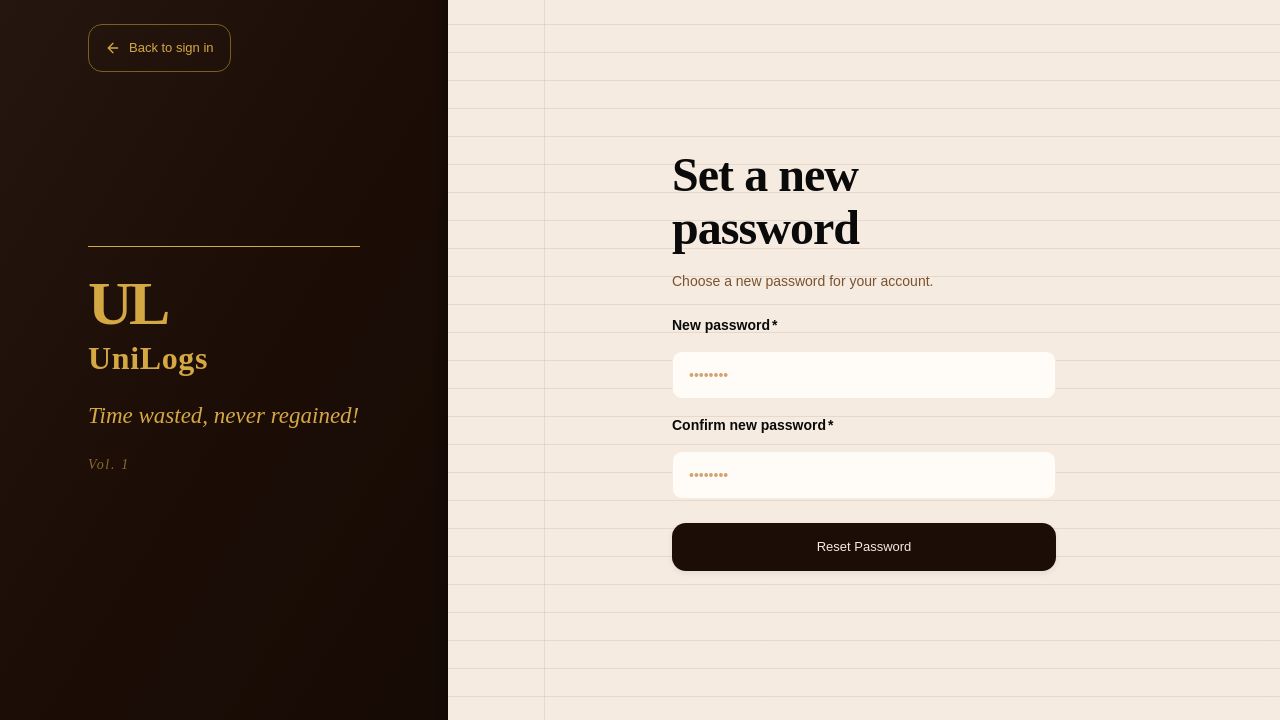
Scenario: ResetPasswordPage with a token › resets the password and shows the confirmation
Type "new-password-1" into the password field labelled "New password*" at (864, 375), box [672,351,1056,399]
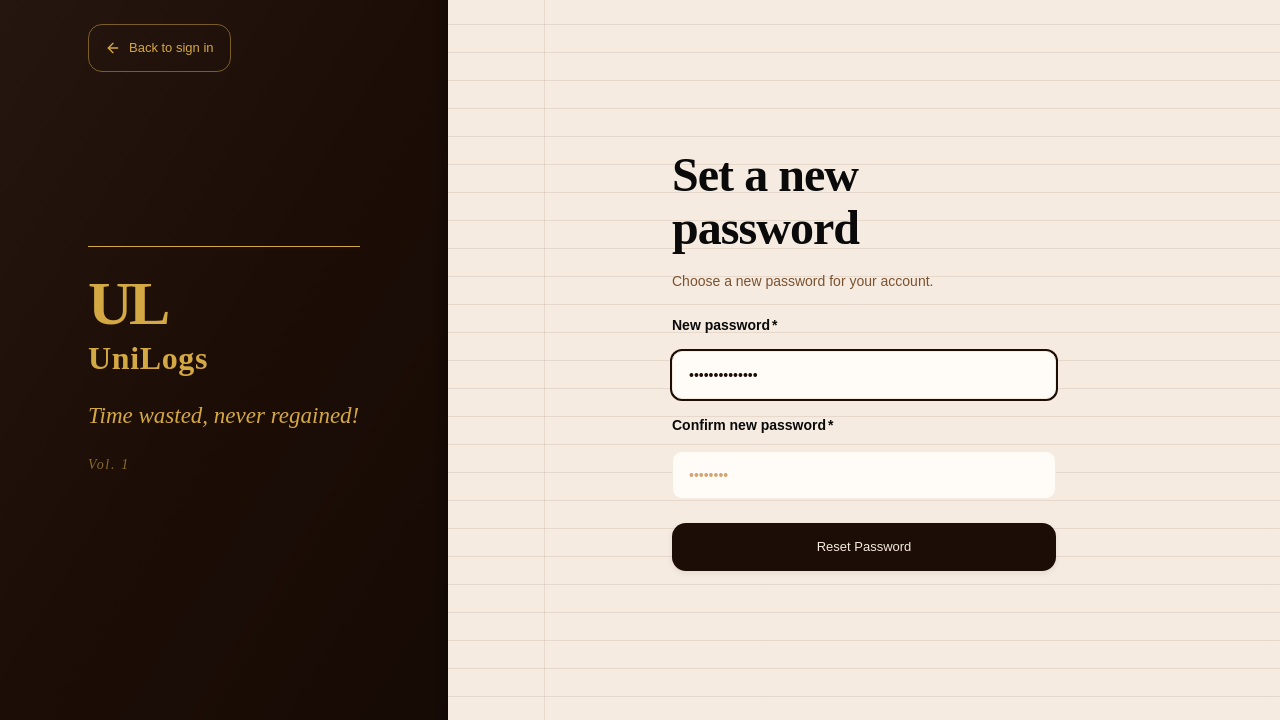
Type "new-password-1" into the password field labelled "Confirm new password*" at (864, 475), box [672,451,1056,499]
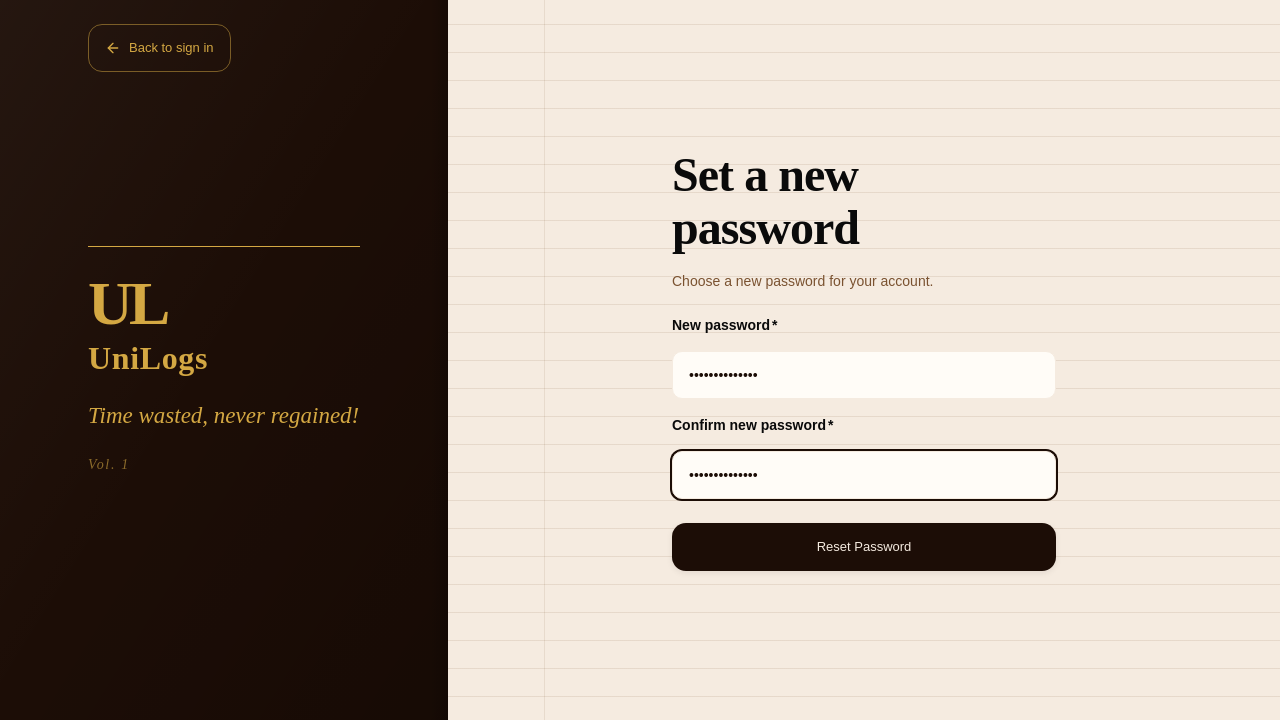
Click the button "Reset Password" at (864, 547), box [672,523,1056,571]
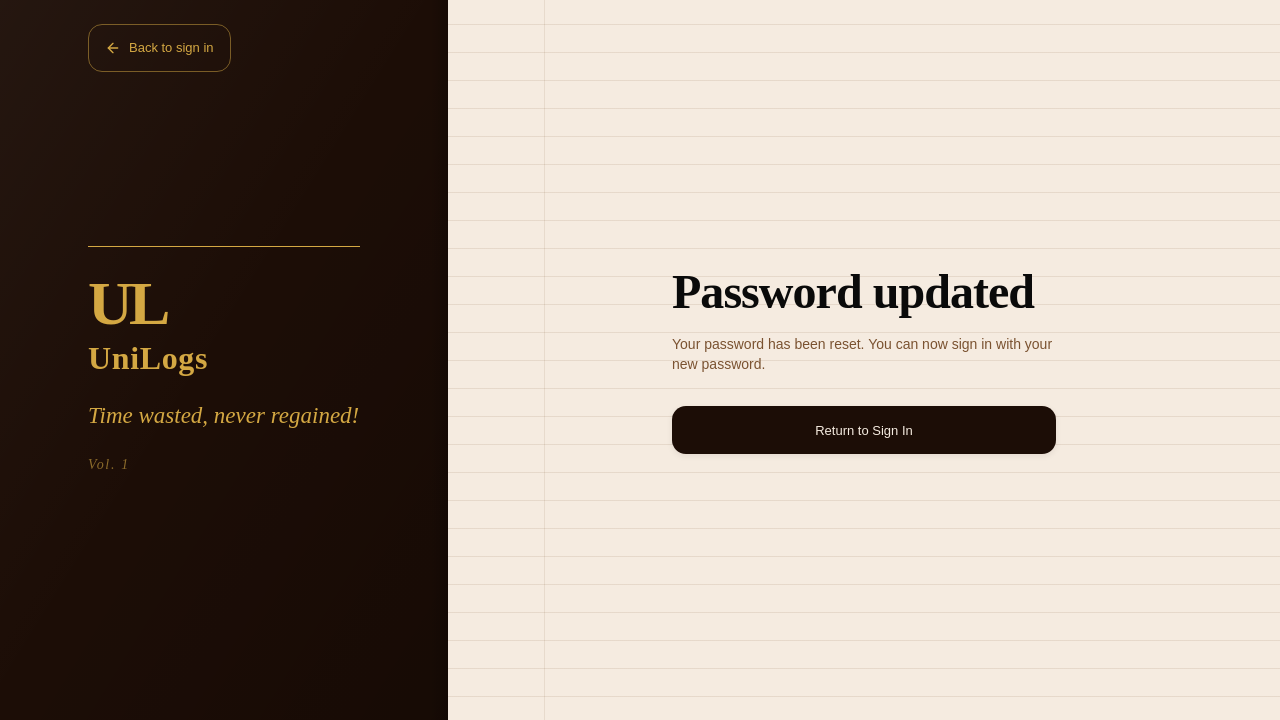
Now the heading "Password updated" is shown, box [672,266,1056,318]
